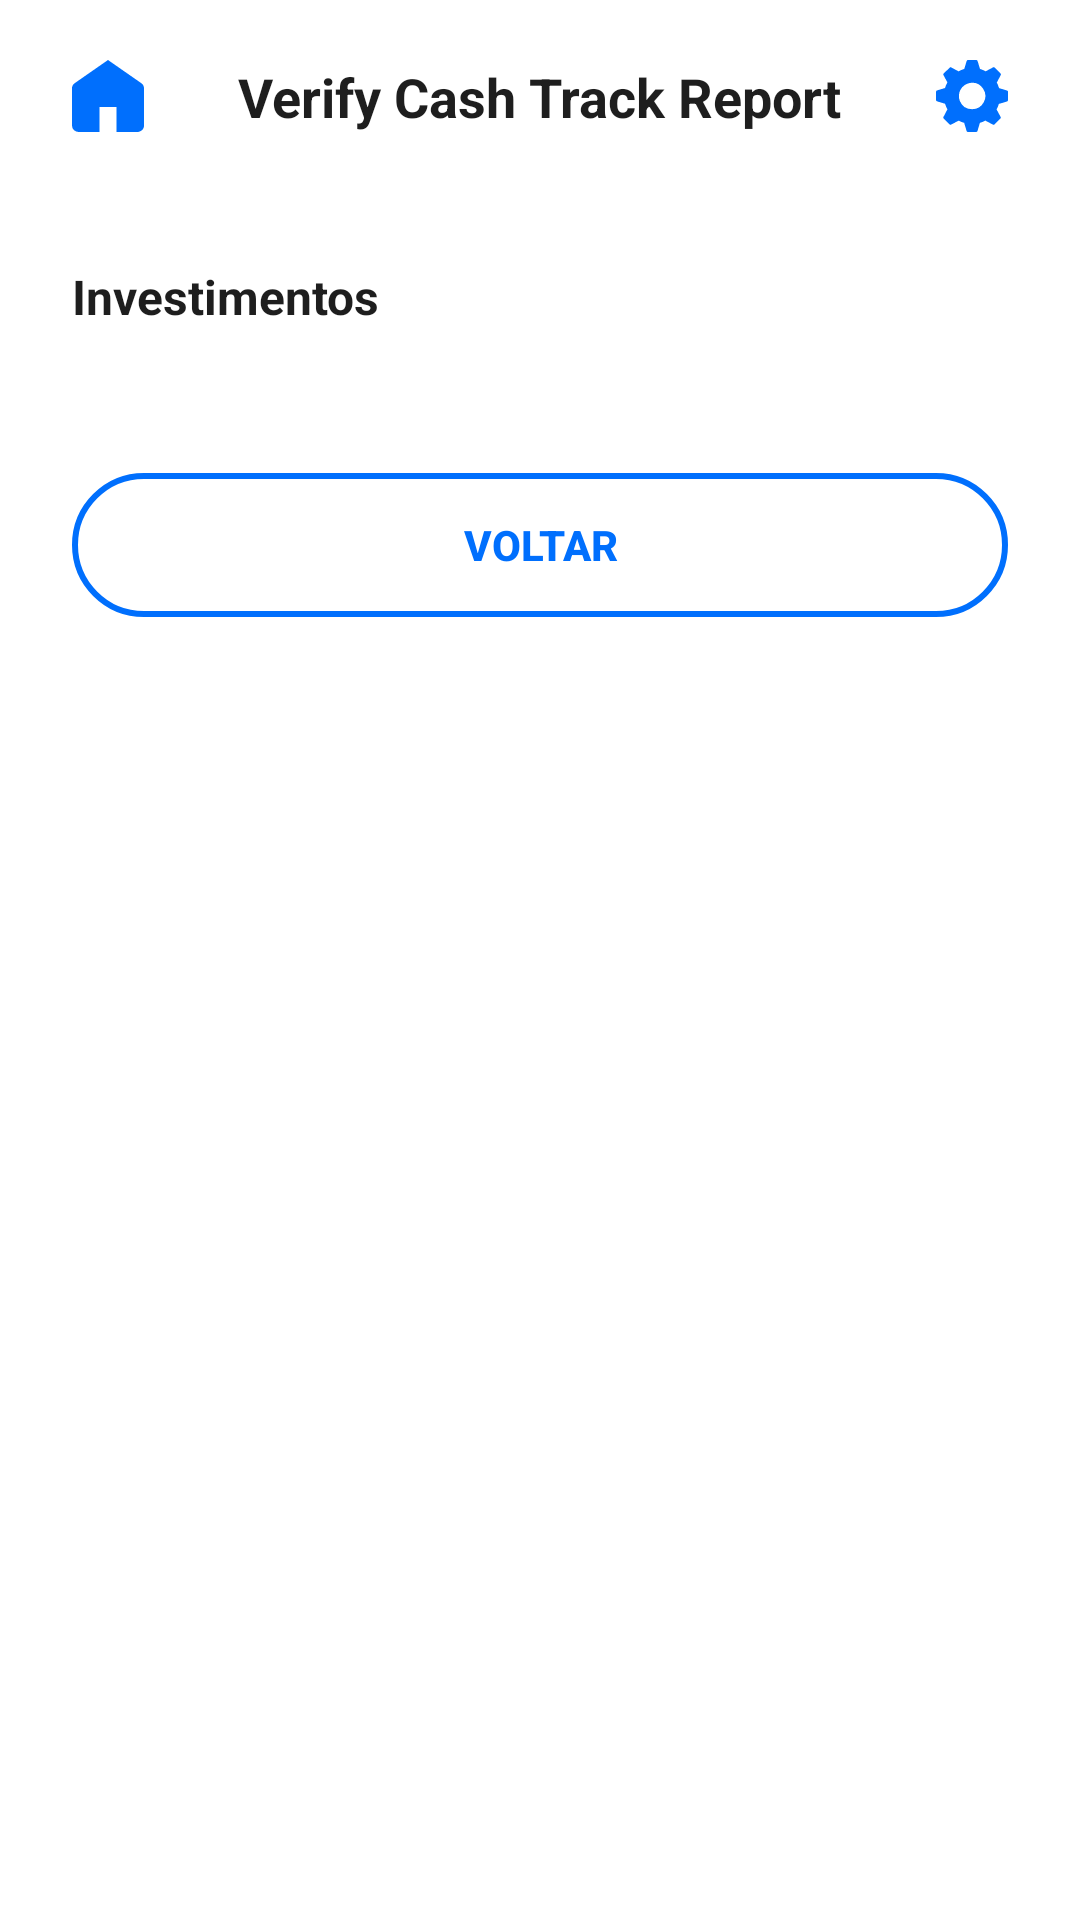

Screen size 1080px x 1920px. Icon name, then its box in pixels as [left=x1, top=y1, right=x2, bottom=y2]:
Configurações: [left=936, top=60, right=1008, bottom=132]
Home: [left=72, top=60, right=144, bottom=132]
